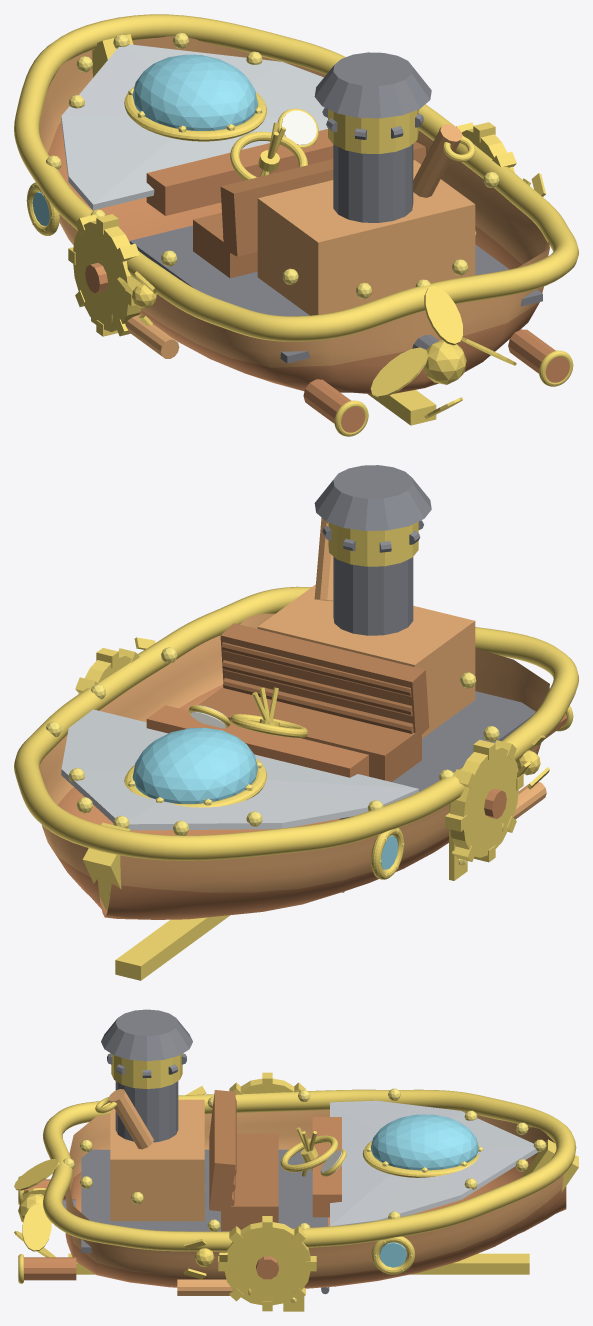
Rendered from boat_tornituerqui.glb.
3 views of the same model, one above another, from view 1: azimuth 30°, elevation 25°; view 2: azimuth 150°, elevation 25°; view 3: azimuth 270°, elevation 25° (orthographic). The views are drawn at different scales.
Parts seen in each view (by area): view 1: TornituerquiHull, GunwaleBrassRim, SteampunkBoiler, ForedeckPlate, ObservationDome, CockpitFloor, Cone, Smokestack, DashboardShelf, PilotSeatBack, CogWheel_-1, Cylinder.016 (+16 smaller); view 2: TornituerquiHull, GunwaleBrassRim, ForedeckPlate, SteampunkBoiler, PilotSeatBack, ObservationDome, PilotSeatBase, Cone, Smokestack, CockpitFloor, DashboardShelf, CogWheel_-1 (+11 smaller); view 3: TornituerquiHull, GunwaleBrassRim, ForedeckPlate, SteampunkBoiler, CockpitFloor, CogWheel_1, ObservationDome, PilotSeatBase, Cone, PilotSeatBack, Smokestack, DashboardShelf (+14 smaller).
Part boxes in pixels (x1,y1,x2,y2): TornituerquiHull: [39, 36, 549, 393]; GunwaleBrassRim: [14, 14, 578, 341]; SteampunkBoiler: [257, 160, 475, 315]; ForedeckPlate: [61, 44, 327, 210]; ObservationDome: [132, 54, 257, 130]; CockpitFloor: [129, 225, 542, 363]; Cone: [314, 52, 431, 118]; Smokestack: [333, 144, 413, 222]; DashboardShelf: [146, 129, 333, 215]; PilotSeatBack: [220, 141, 426, 256]; CogWheel_-1: [73, 220, 141, 331]; Cylinder.016: [328, 109, 418, 153]; TornituerquiHull: [39, 613, 549, 919]; GunwaleBrassRim: [14, 586, 578, 860]; ForedeckPlate: [61, 709, 418, 830]; SteampunkBoiler: [257, 584, 475, 738]; PilotSeatBack: [220, 623, 429, 739]; ObservationDome: [132, 727, 257, 803]; PilotSeatBase: [199, 687, 421, 781]; Cone: [314, 465, 431, 530]; Smokestack: [333, 556, 413, 635]; CockpitFloor: [339, 691, 535, 819]; DashboardShelf: [146, 705, 368, 777]; CogWheel_-1: [450, 746, 518, 857]; TornituerquiHull: [65, 1110, 566, 1288]; GunwaleBrassRim: [43, 1089, 576, 1251]; ForedeckPlate: [330, 1100, 537, 1226]; SteampunkBoiler: [110, 1099, 204, 1221]; CockpitFloor: [81, 1149, 327, 1252]; CogWheel_1: [224, 1222, 310, 1305]; ObservationDome: [370, 1114, 478, 1170]; PilotSeatBase: [221, 1133, 278, 1231]; Cone: [101, 1009, 192, 1061]; PilotSeatBack: [209, 1090, 235, 1211]; Smokestack: [115, 1081, 178, 1142]; DashboardShelf: [312, 1117, 341, 1217].
Bounding box in the file's own units: 3.52 × 2.6 × 5.39.
